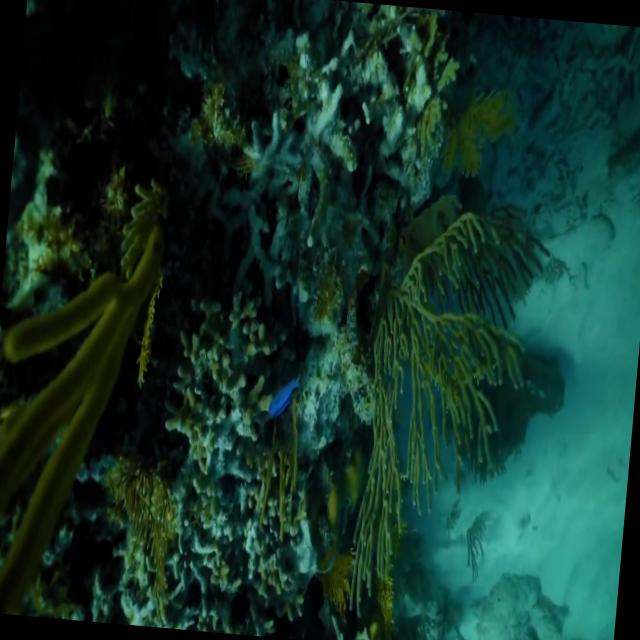fish: (266, 360, 305, 422)
